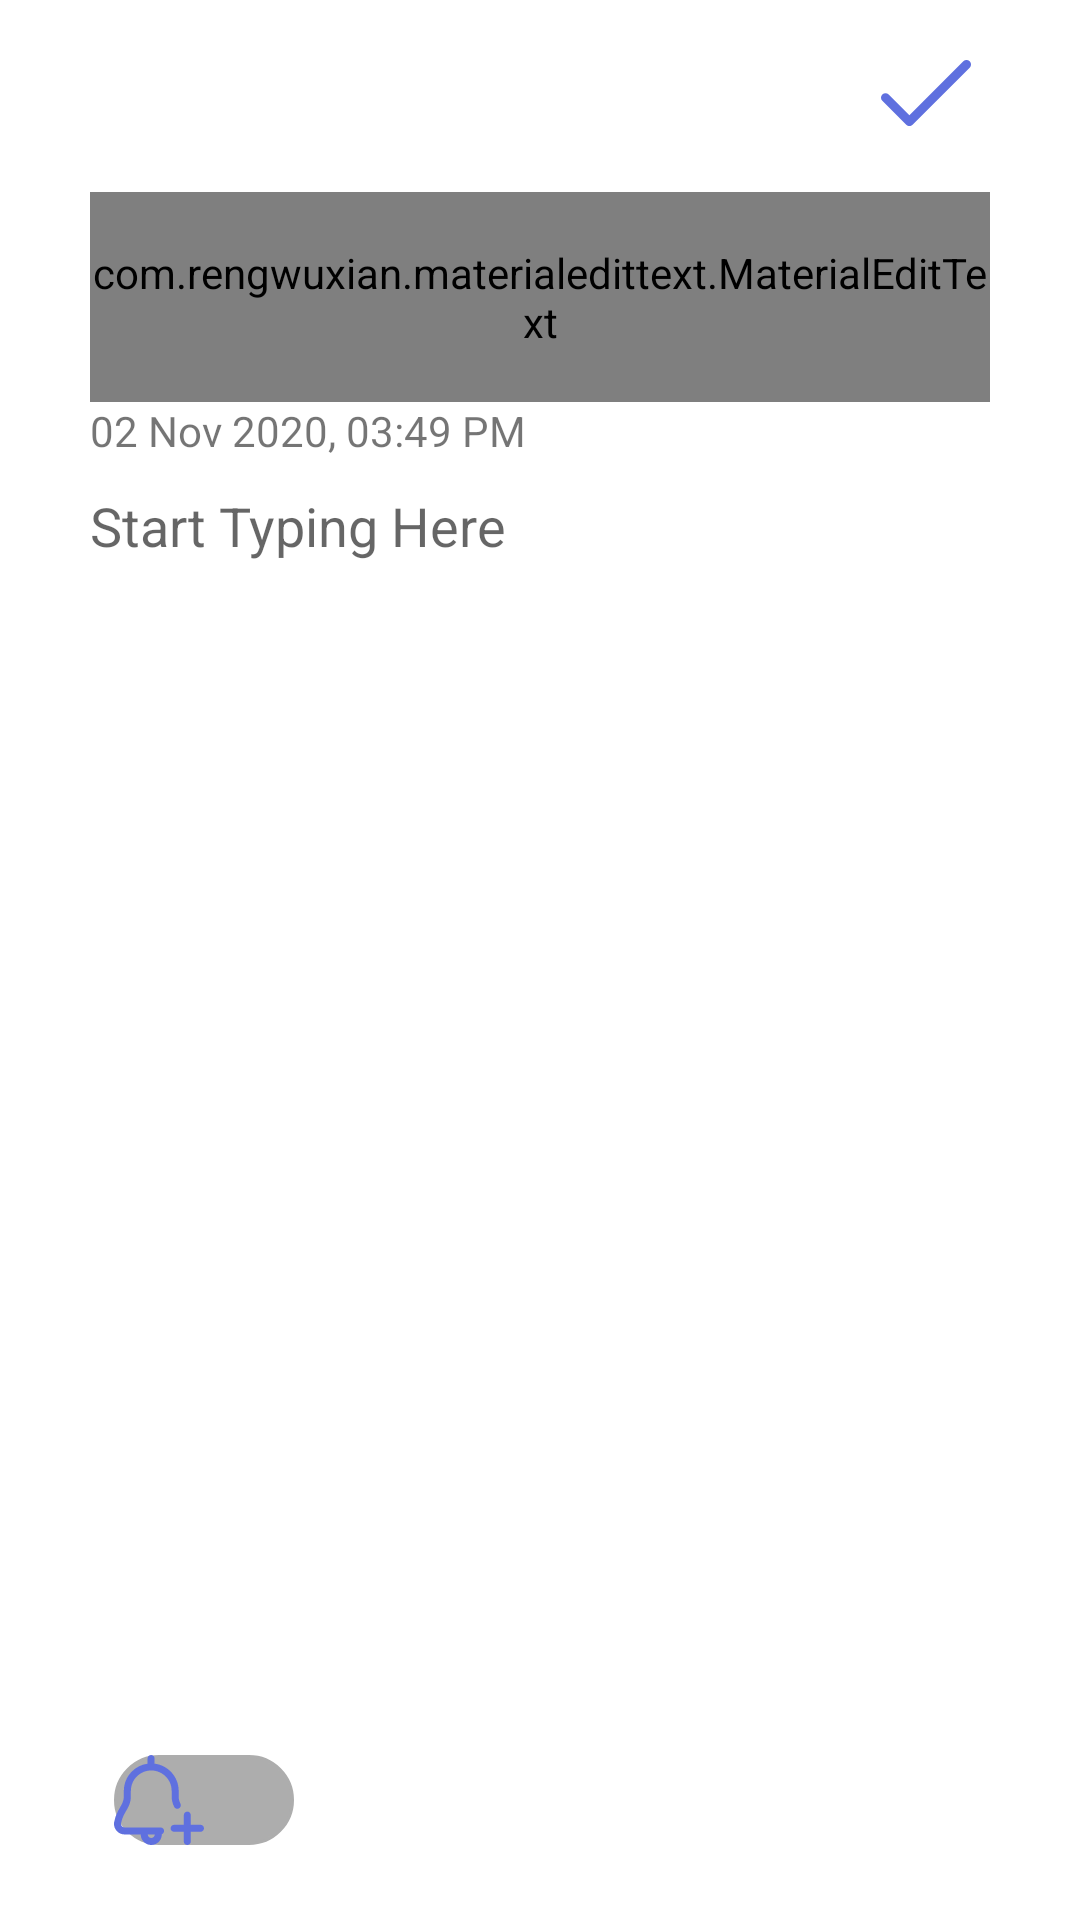

Screen size 1080px x 1920px. Icon name, then its center in pixels as [x,y]:
tick: [926,93]
